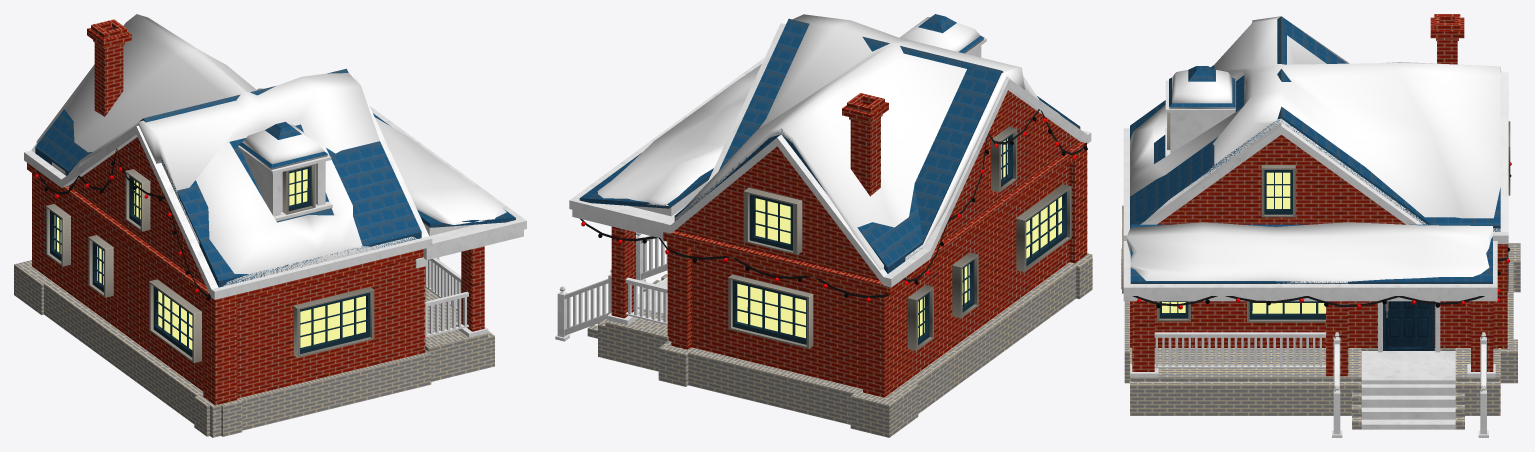
File: House_3.fbx
3 renders of one model, left to right at view 1: azimuth 30°, elevation 25°; view 2: azimuth 150°, elevation 25°; view 3: azimuth 270°, elevation 25°, orthographic. The views are drawn at different scales.
Parts seen in each view (by area): view 1: U_Snow, U_Brick, U_Brick_Bottom, U_Basic, U_Roof, U_Window_Big_Blue__1_, U_Window_Big_Blue__3_, U_Window_Blue__2_, U_Window_Blue__4_, U_Window_Blue__5_, U_Window_Blue__6_, U_Wire__1_; view 2: U_Brick, U_Snow, U_Brick_Bottom, U_Basic, U_Roof, U_Window_Big_Blue__2_, U_Window_Blue__3_, U_Window_Big_Blue__3_, U_Window_Blue__4_, U_Window_Blue__5_, U_Wire__1_, U_Window_Blue__6_ (+1 smaller); view 3: U_Snow, U_Basic, U_Brick, U_Brick_Bottom, U_Roof, U_Door_B, U_Window_Blue__1_, U_Window_Big_Blue, U_Wire__1_, U_Window_Blue, U_Door_Border_In_B_Blue.
Boxes of the visible parts, <box> form: U_Snow: <box>36,14,506,285</box>; U_Brick: <box>27,19,484,405</box>; U_Brick_Bottom: <box>14,260,494,437</box>; U_Basic: <box>24,73,526,337</box>; U_Roof: <box>35,68,515,287</box>; U_Window_Big_Blue__1_: <box>293,287,374,357</box>; U_Window_Big_Blue__3_: <box>149,279,201,362</box>; U_Window_Blue__2_: <box>282,164,315,214</box>; U_Window_Blue__4_: <box>88,235,113,297</box>; U_Window_Blue__5_: <box>46,204,70,266</box>; U_Window_Blue__6_: <box>125,169,150,231</box>; U_Wire__1_: <box>36,148,210,297</box>; U_Brick: <box>611,90,1087,397</box>; U_Snow: <box>597,14,1059,269</box>; U_Brick_Bottom: <box>587,253,1092,437</box>; U_Basic: <box>555,23,1091,341</box>; U_Roof: <box>579,14,1080,273</box>; U_Window_Big_Blue__2_: <box>728,274,813,348</box>; U_Window_Blue__3_: <box>743,187,802,254</box>; U_Window_Big_Blue__3_: <box>1016,184,1071,272</box>; U_Window_Blue__4_: <box>952,252,978,318</box>; U_Window_Blue__5_: <box>907,285,933,350</box>; U_Wire__1_: <box>580,109,1087,298</box>; U_Window_Blue__6_: <box>991,126,1017,192</box>; U_Snow: <box>1127,16,1501,283</box>; U_Basic: <box>1123,72,1508,437</box>; U_Brick: <box>1130,14,1507,376</box>; U_Brick_Bottom: <box>1121,243,1520,429</box>; U_Roof: <box>1130,16,1500,283</box>; U_Door_B: <box>1384,301,1432,346</box>; U_Window_Blue__1_: <box>1261,165,1295,217</box>; U_Window_Big_Blue: <box>1247,301,1325,322</box>; U_Wire__1_: <box>1132,250,1507,306</box>; U_Window_Blue: <box>1157,301,1190,321</box>; U_Door_Border_In_B_Blue: <box>1383,301,1434,350</box>.
Bounding box in the file's own units: 660 × 528 × 674.
Materials: 10 (6 with a texture image).
